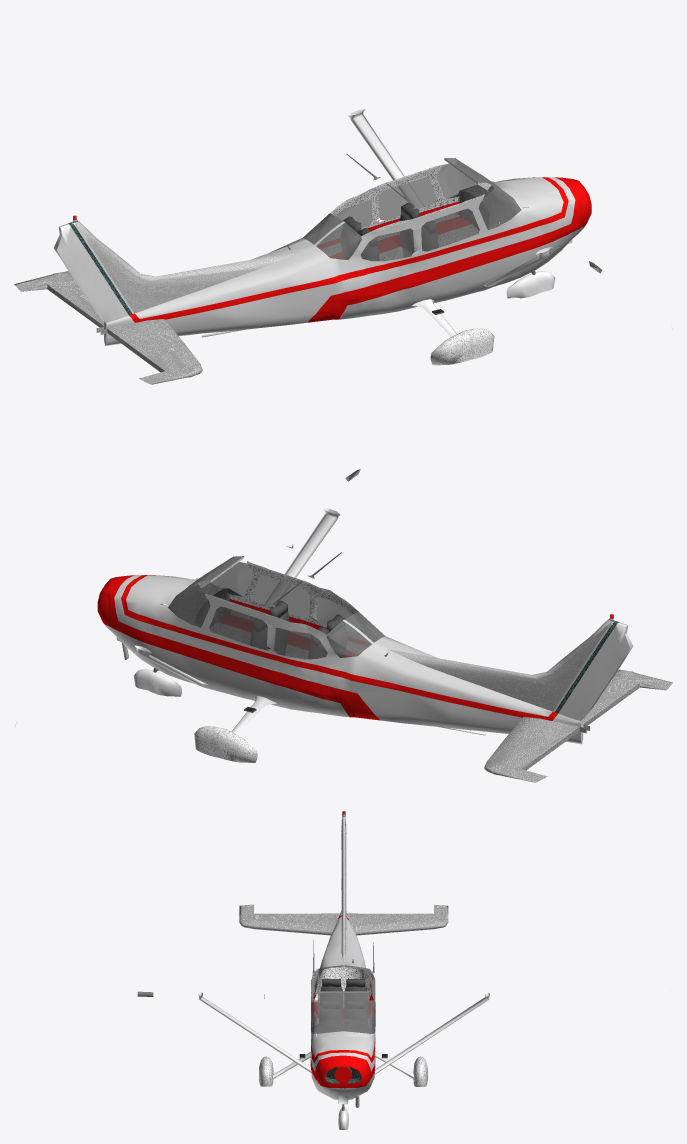
Rendered from body-test-2.dae.
3 views of the same model, one above another, from view 1: azimuth 30°, elevation 25°; view 2: azimuth 150°, elevation 25°; view 3: azimuth 270°, elevation 25° (orthographic). The views are drawn at different scales.
Visible parts, largest first — view 1: group_9, group_2, group_4, instance_0, group_13, instance_1, group_6, group_3, group_16, group_7, group_14, group_15 (+2 smaller); view 2: group_9, group_2, group_3, instance_0, group_13, instance_2, group_6, group_4, group_14, group_7, group_16, group_17 (+2 smaller); view 3: group_9, group_13, group_3, group_4, group_6, instance_0, group_2, group_7, instance_2, instance_1.
Boxes of the visible parts, <box> form: group_9: <box>104,14,672,346</box>; group_2: <box>54,220,300,322</box>; group_4: <box>100,319,202,384</box>; instance_0: <box>72,109,555,337</box>; group_13: <box>436,158,521,229</box>; instance_1: <box>412,299,494,365</box>; group_6: <box>340,203,438,260</box>; group_3: <box>14,271,103,332</box>; group_16: <box>421,208,479,251</box>; group_7: <box>447,184,520,229</box>; group_14: <box>379,177,437,220</box>; group_15: <box>361,228,414,261</box>; group_9: <box>15,413,583,744</box>; group_2: <box>388,619,633,720</box>; group_3: <box>484,717,586,782</box>; instance_0: <box>133,508,614,735</box>; group_13: <box>168,556,252,627</box>; instance_2: <box>194,696,276,762</box>; group_6: <box>250,600,347,658</box>; group_4: <box>583,669,672,730</box>; group_14: <box>209,606,267,649</box>; group_7: <box>168,583,242,627</box>; group_16: <box>251,575,309,618</box>; group_17: <box>274,628,327,659</box>; group_9: <box>137,910,668,1099</box>; group_13: <box>311,991,375,1033</box>; group_3: <box>346,905,448,935</box>; group_4: <box>239,904,339,935</box>; group_6: <box>319,978,367,1023</box>; instance_0: <box>198,811,489,1129</box>; group_2: <box>341,811,346,962</box>; group_7: <box>311,1019,374,1033</box>; instance_2: <box>375,1051,427,1086</box>; instance_1: <box>259,1051,310,1086</box>.
Bounding box in the file's own units: 7.63 × 2.62 × 10.94.
